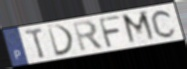C: (150, 9, 178, 40)
D: (46, 24, 76, 58)
F: (97, 14, 123, 50)
M: (120, 9, 158, 46)
R: (72, 19, 106, 54)
T: (24, 26, 48, 60)
